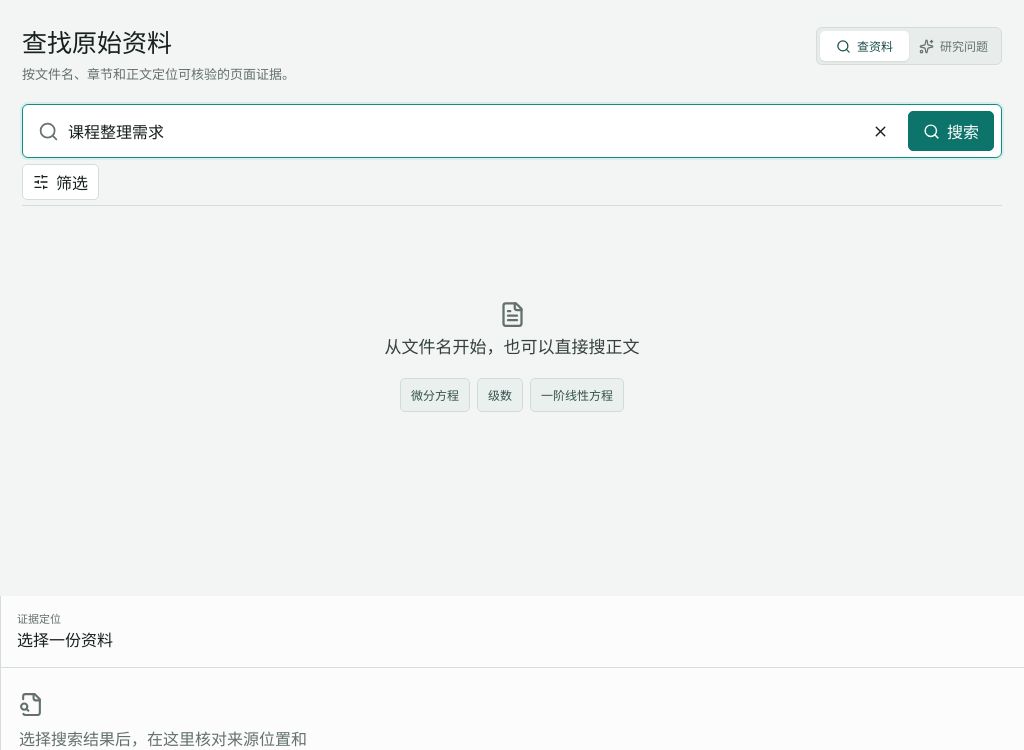
Test: workspace-bound evidence › labels metadata-only search results without claiming正文 extraction
This screenshot has width=1024, height=750.
What coordinates should you click on to do the following:
click the button "搜索"
I would click on:
 (951, 131)
Its box is left=908, top=111, right=994, bottom=151.
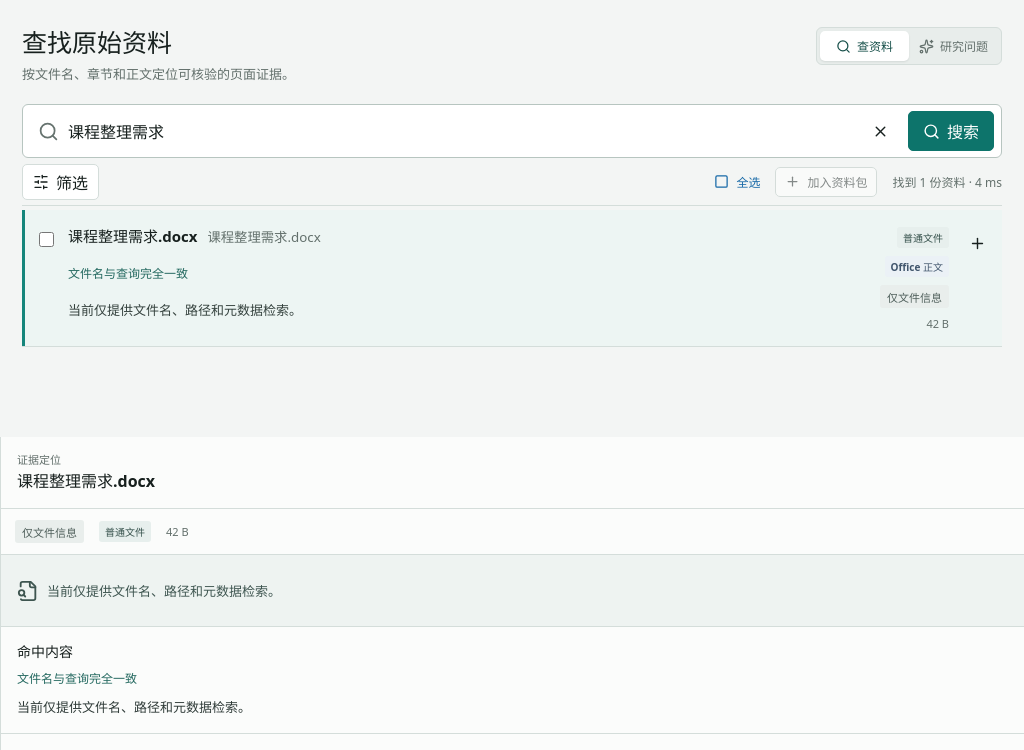
Expected: the text "仅文件信息" is shown 2 times, left=880, top=285, right=949, bottom=308; left=15, top=520, right=84, bottom=543
